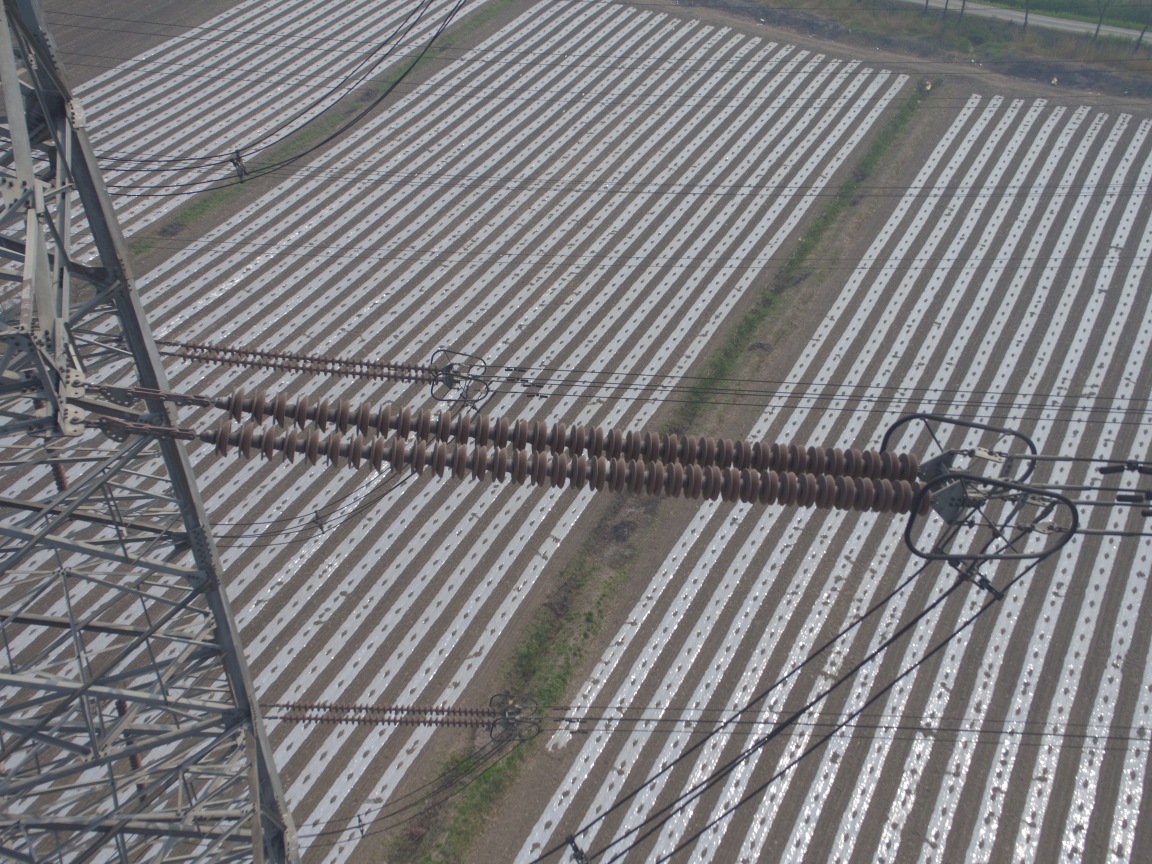insulator: (179, 386, 942, 516), (168, 338, 439, 384), (261, 700, 495, 728)
